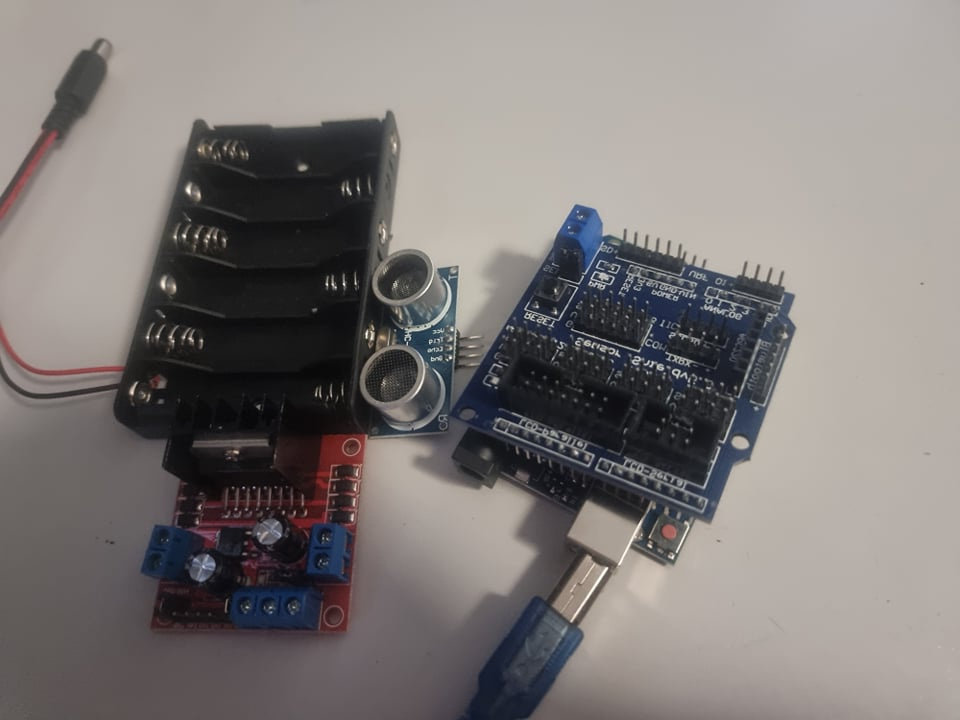5V EXPANSION: (453, 202, 794, 509)
BATTERY BOX: (113, 103, 402, 442)
MOTOR: (134, 392, 356, 636)
SENSOR: (362, 244, 458, 437)
UNO R3: (448, 463, 697, 588)
